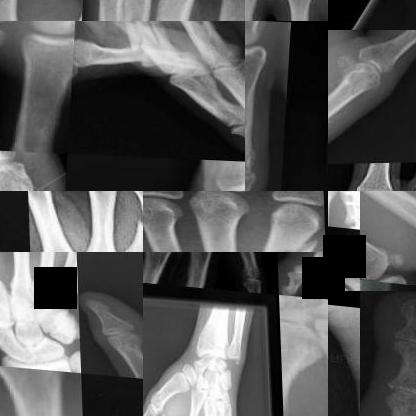fracture: (241, 217, 326, 251), (113, 21, 170, 55), (75, 34, 104, 85), (330, 191, 360, 225), (310, 358, 327, 415), (0, 0, 44, 21), (122, 200, 142, 243), (328, 96, 342, 136)
